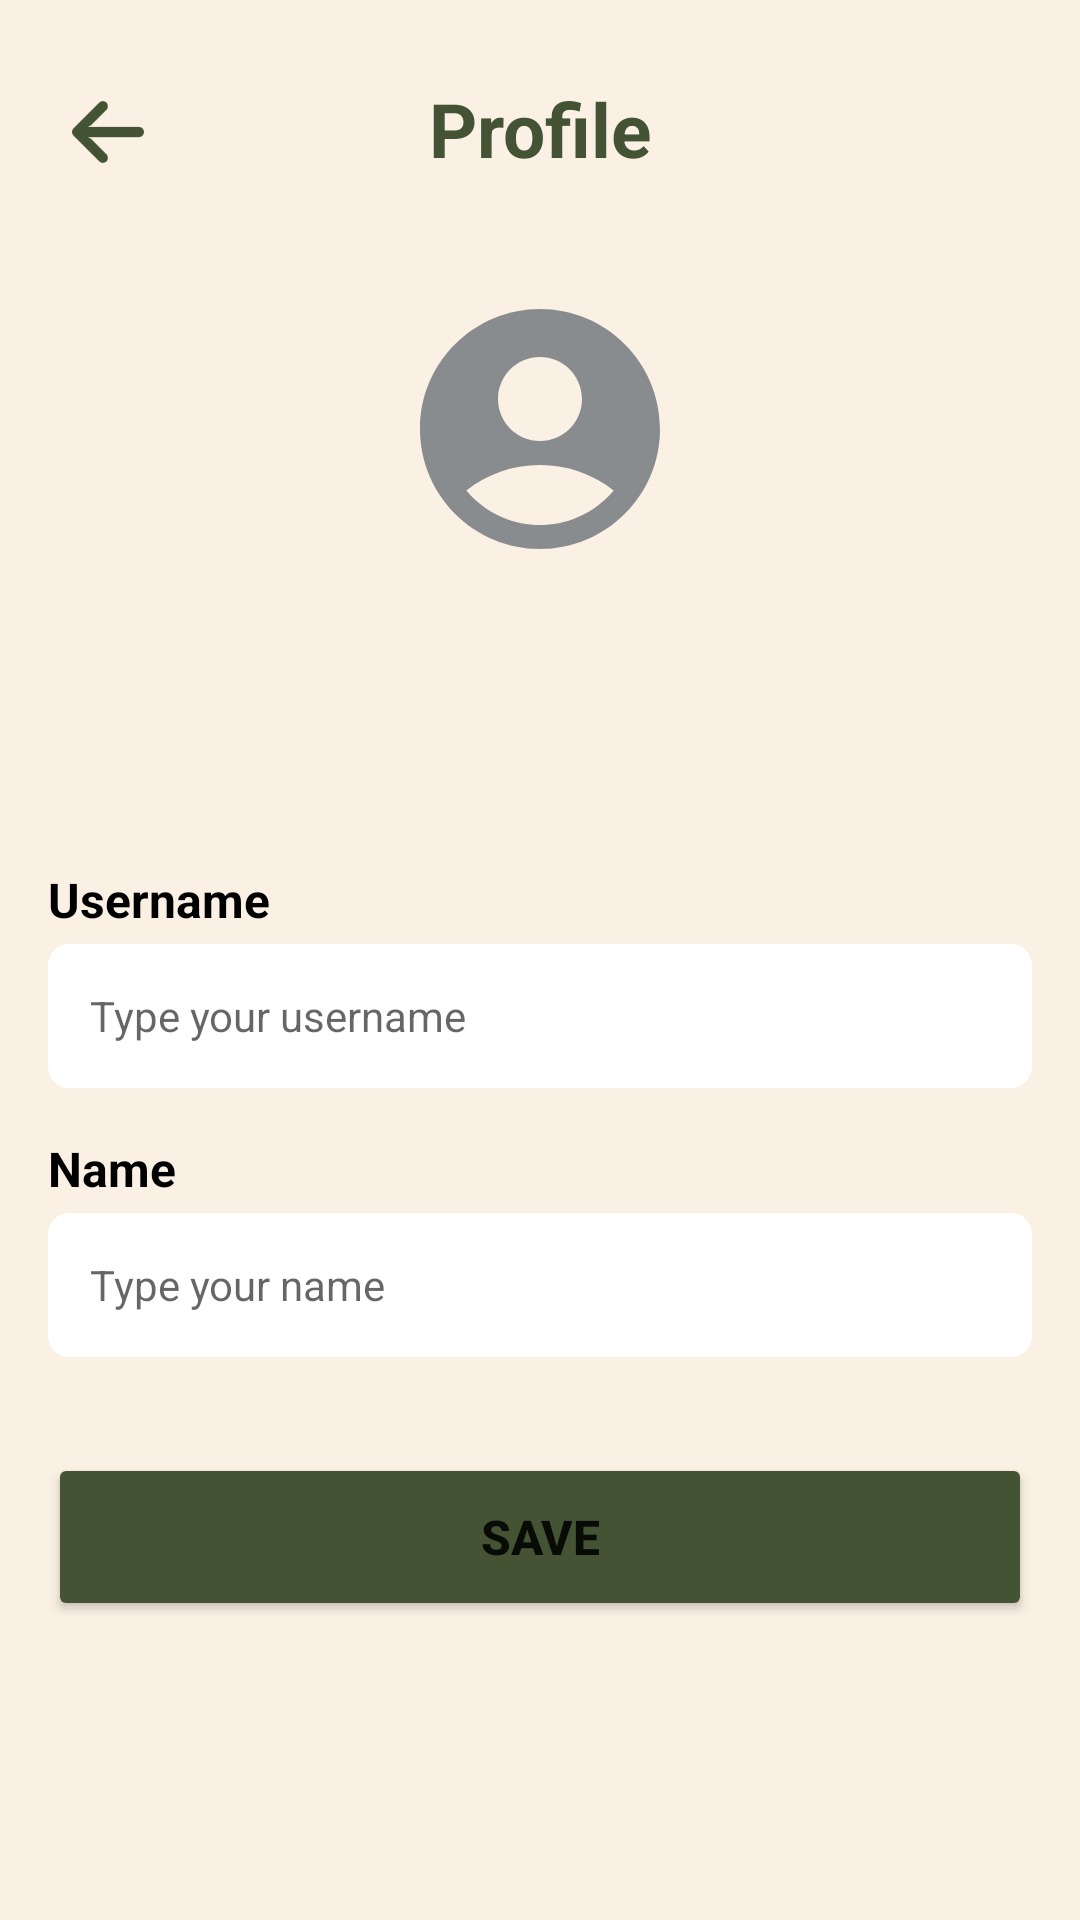

Icon bounding boxes for this 1080x1920 phone screenshot, format box=[x1, y1, x2, y2]:
arrow: box=[72, 101, 144, 163]
